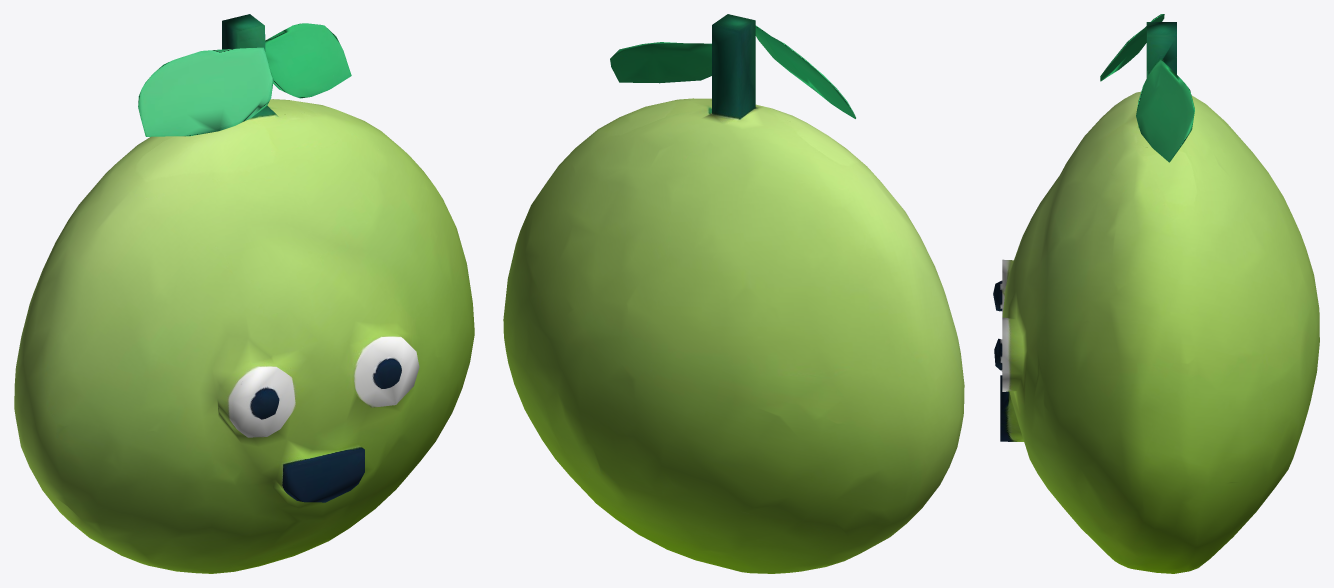
File: sprout_3d.glb
The picture shows the model from 3 angles, left to right: view 1: azimuth 30°, elevation 25°; view 2: azimuth 150°, elevation 25°; view 3: azimuth 270°, elevation 25°; orthographic projection. The views are drawn at different scales.
Visible parts, largest first — view 1: tripo_node_90917bc2-5fb9-4b9c-98b0-73b38c59be63; view 2: tripo_node_90917bc2-5fb9-4b9c-98b0-73b38c59be63; view 3: tripo_node_90917bc2-5fb9-4b9c-98b0-73b38c59be63.
Part boxes in pixels (x1,y1,x2,y2): tripo_node_90917bc2-5fb9-4b9c-98b0-73b38c59be63: (14,14,474,573); tripo_node_90917bc2-5fb9-4b9c-98b0-73b38c59be63: (503,14,964,573); tripo_node_90917bc2-5fb9-4b9c-98b0-73b38c59be63: (993,14,1319,573).
Bounding box in the file's own units: 0.8551 × 1 × 0.5673.
Materials: 1 (1 with a texture image).
